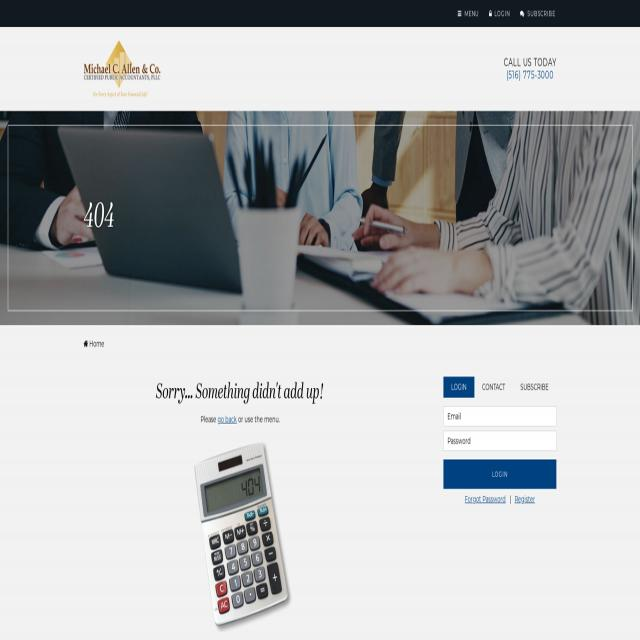button: (84, 40, 160, 99), (443, 460, 556, 489), (514, 0, 560, 27), (512, 377, 556, 397), (484, 0, 514, 27), (475, 377, 513, 397), (451, 0, 482, 24), (444, 377, 474, 397)
field: (444, 407, 556, 427), (444, 431, 556, 451)
